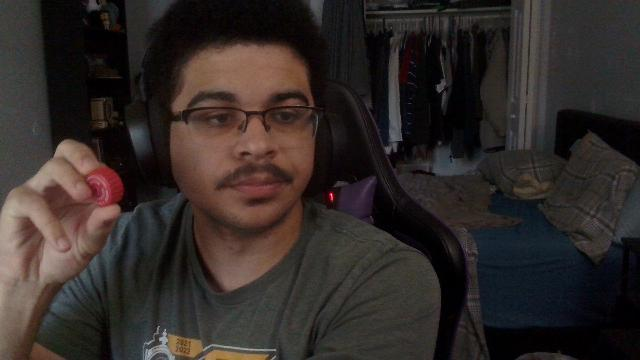cap: (87, 166, 123, 208)
